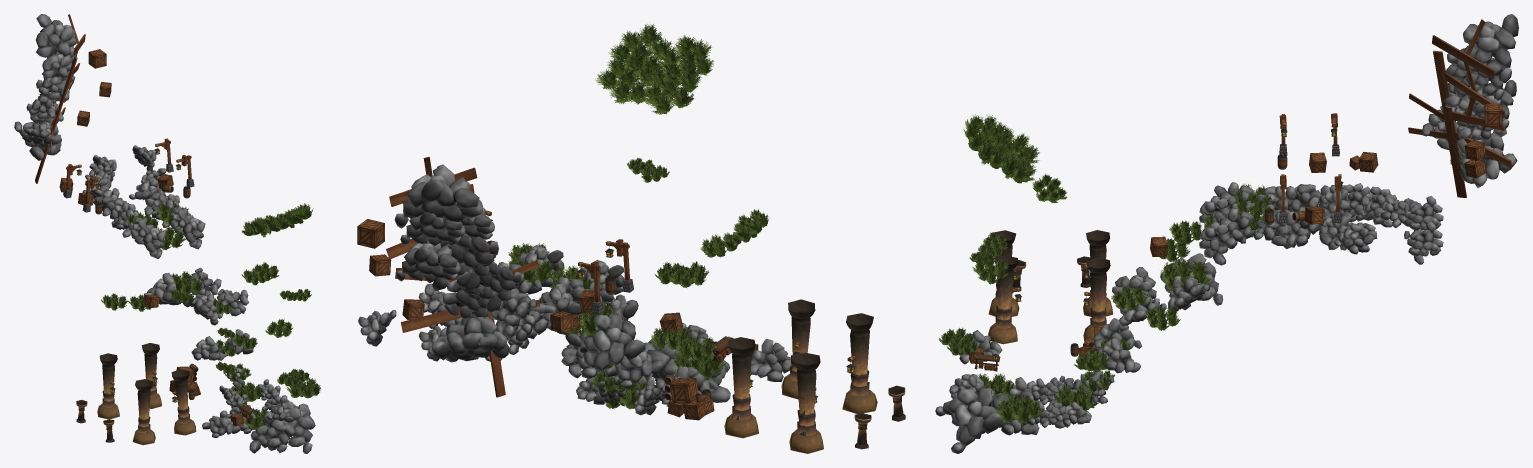
File: 5thInstance_Level01_Props.FBX
The picture shows the model from 3 angles, left to right: view 1: azimuth 30°, elevation 25°; view 2: azimuth 150°, elevation 25°; view 3: azimuth 270°, elevation 25°; orthographic projection. The views are drawn at different scales.
Parts seen in each view (by area): view 1: StonePile, Plant, Brazier, Box, LampPost, Wooden_Plate, Wooden_Barrel; view 2: StonePile, Plant, Brazier, Box, Wooden_Plate, LampPost; view 3: StonePile, Plant, Brazier, Wooden_Plate, Box, LampPost, Wooden_Barrel.
Part boxes in pixels (box(x1,y1,x2,y2)): StonePile: box(14, 14, 315, 453); Plant: box(101, 202, 320, 430); Brazier: box(76, 343, 196, 445); Box: box(59, 49, 249, 425); LampPost: box(63, 141, 194, 432); Wooden_Plate: box(35, 14, 85, 183); Wooden_Barrel: box(95, 185, 198, 399); StonePile: box(358, 164, 791, 415); Plant: box(508, 24, 768, 409); Brazier: box(724, 299, 905, 453); Box: box(357, 219, 758, 420); Wooden_Plate: box(386, 156, 539, 397); LampPost: box(454, 210, 855, 435); StonePile: box(935, 14, 1518, 453); Plant: box(939, 114, 1276, 423); Brazier: box(988, 230, 1113, 344); Wooden_Plate: box(1408, 19, 1512, 197); Box: box(969, 103, 1502, 370); LampPost: box(996, 114, 1343, 306); Wooden_Barrel: box(1070, 153, 1305, 356).
Size of the model in its own units: 19.64 by 25.45 by 33.12.
Materials: 9 (9 with a texture image).
